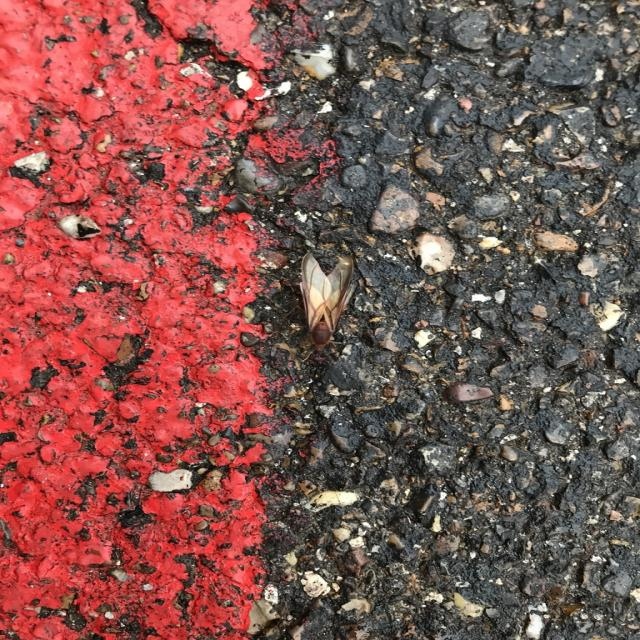Alive-Male-Alate: (268, 252, 357, 363)
